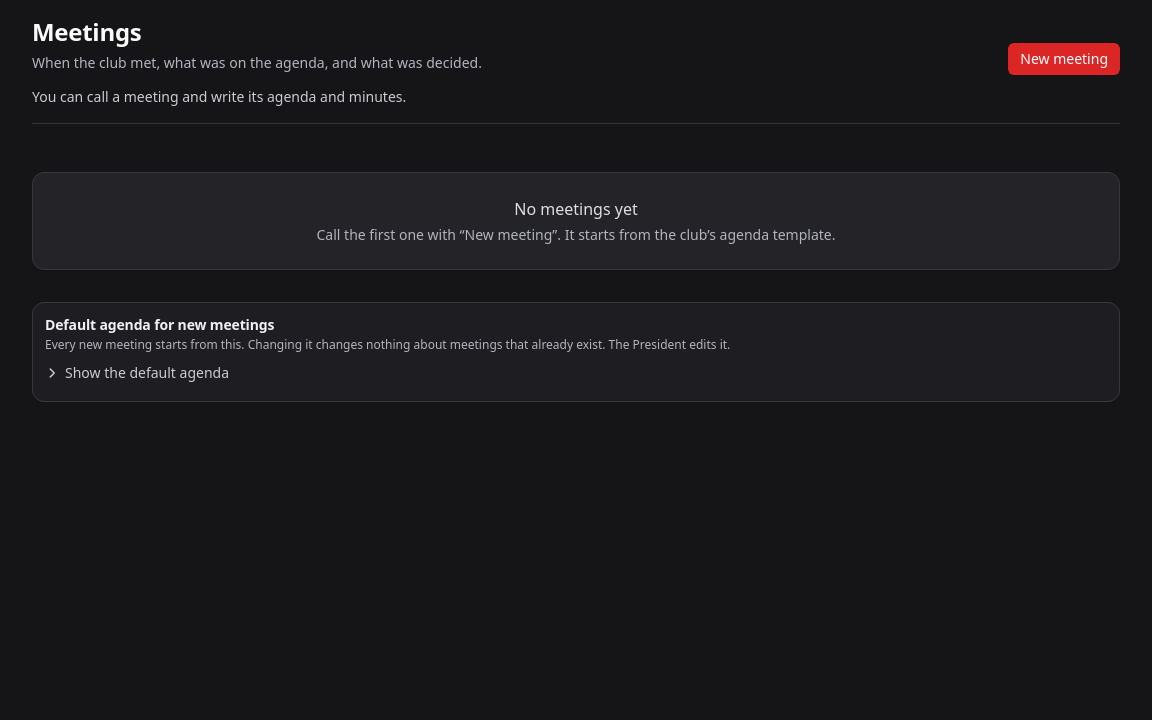
Test case: calling and editing a meeting › says a new meeting has no attendance yet, and the first absentee records it with everyone else present
The image size is (1152, 720).
Click the button "New meeting": {"x": 1064, "y": 59} [1008,43,1120,75]
(page scrolled)
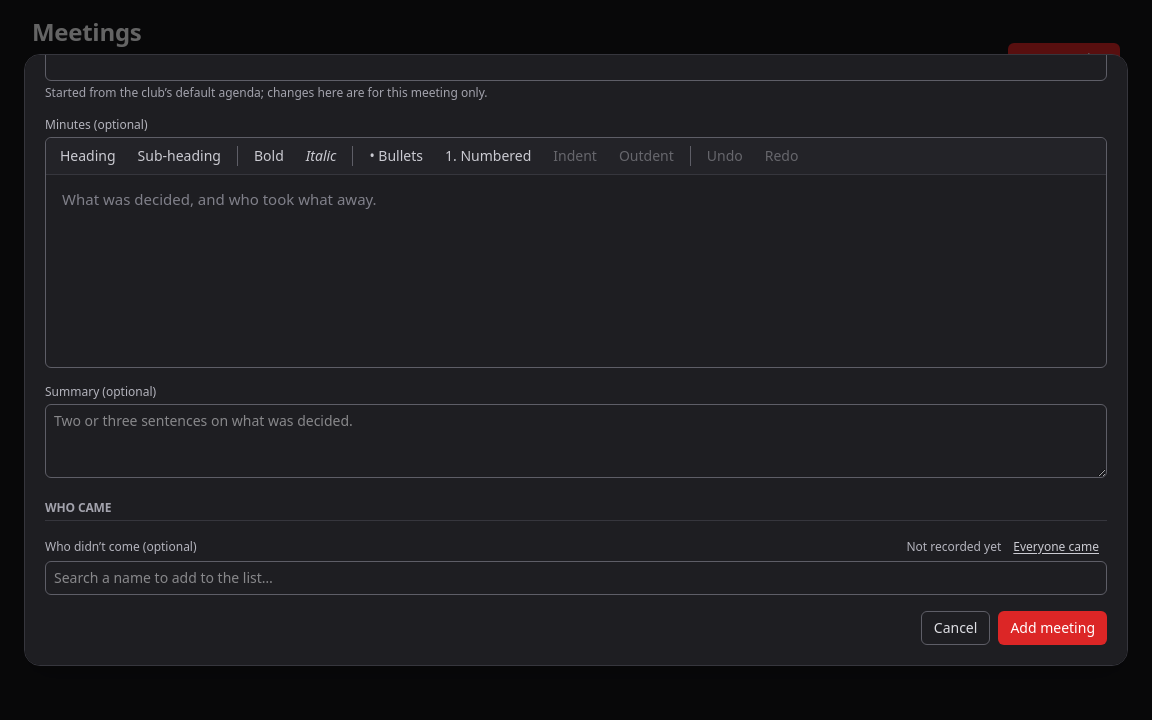
Result: the text with test id "attendance-count" reads "Not recorded yet" at [906,538,1001,555]
Click the dropdown named "didn’t come": {"x": 576, "y": 578} [45,561,1107,595]
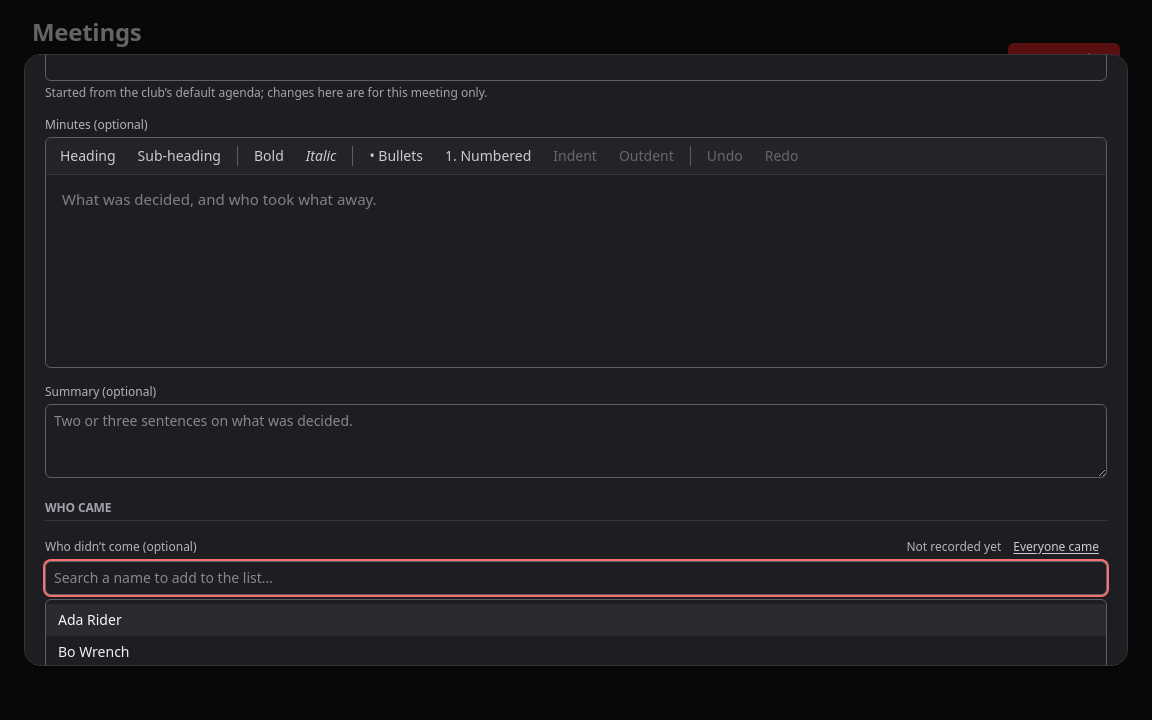
Click the option "Bo Wrench": {"x": 94, "y": 651} [58,642,130,661]
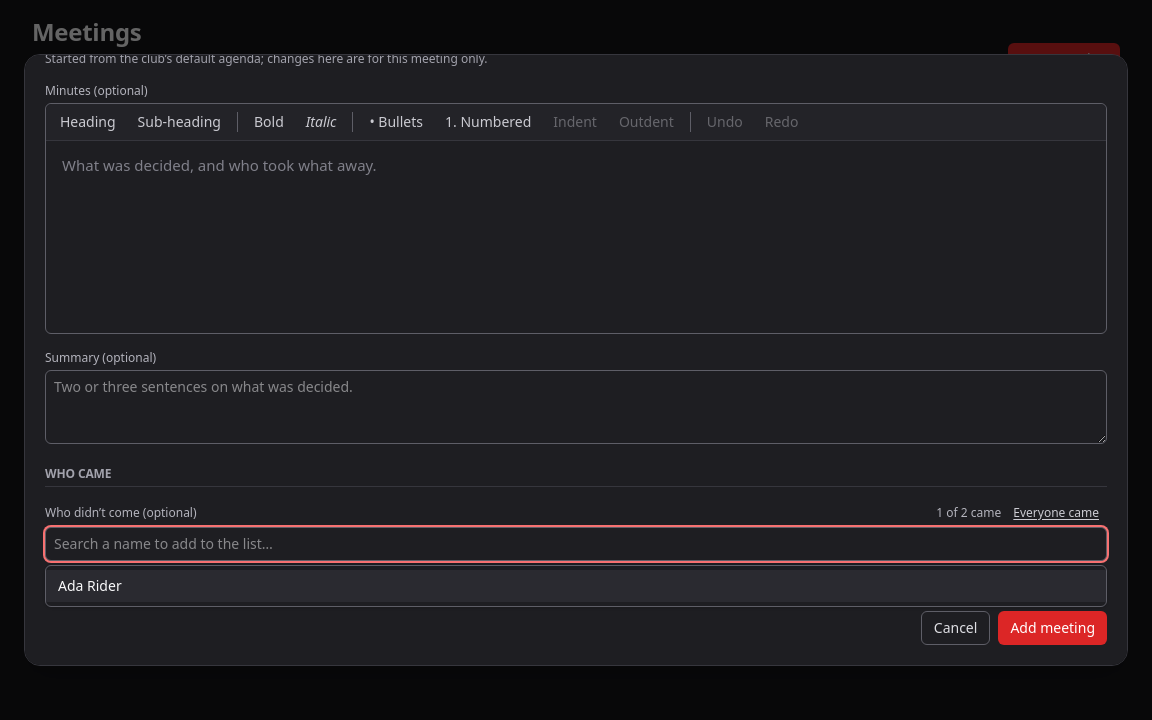
Result: the text "Bo Wrench" is shown at [58,572,130,592]
Result: the text with test id "attendance-count" reads "1 of 2 came" at [936,504,1001,521]
Click the button "Everyone came": {"x": 1056, "y": 513} [1005,503,1107,523]
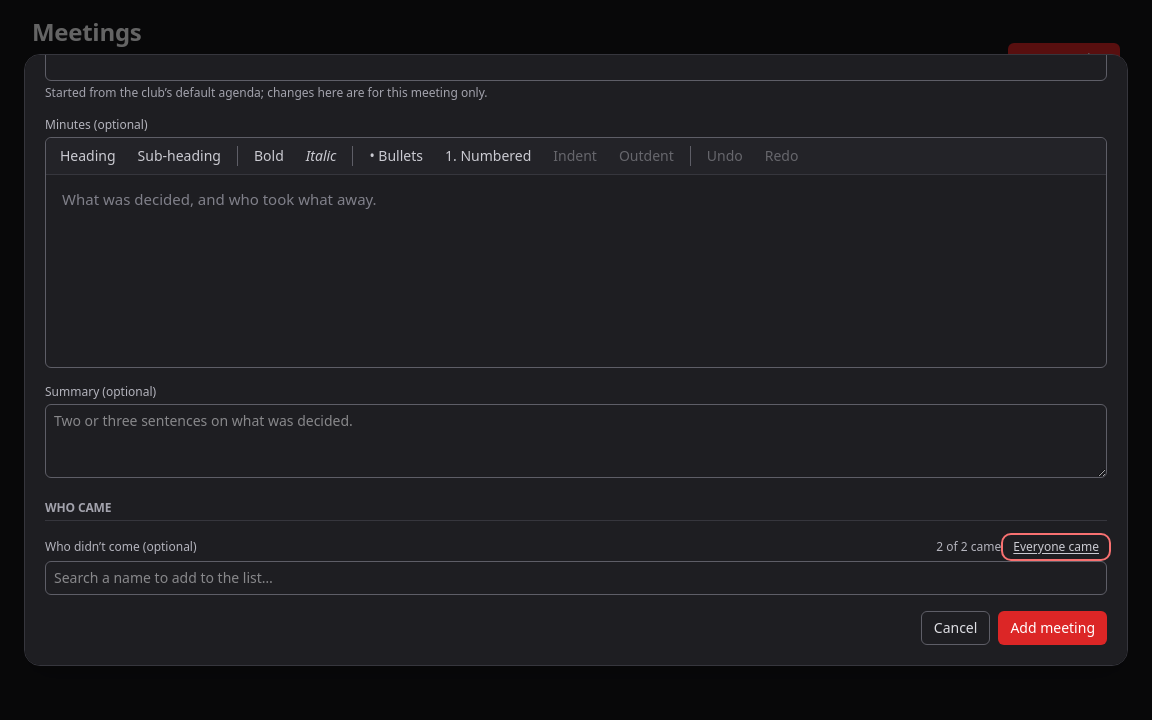
Result: the text with test id "attendance-count" reads "2 of 2 came" at [936,538,1001,555]
Result: the list with test id "absent-list" is gone
